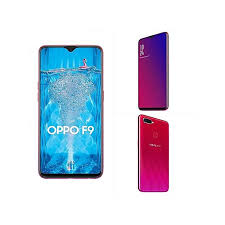oppo: (35, 43, 103, 183), (135, 114, 172, 194)
